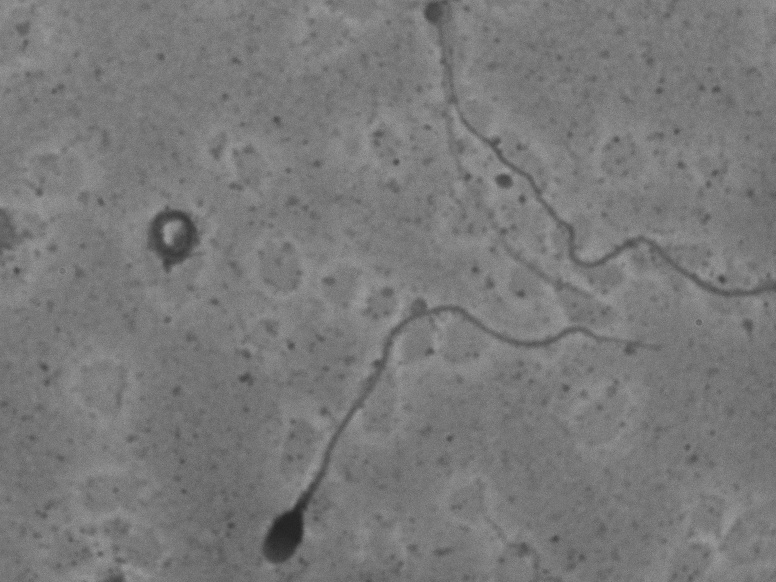Normal: (252, 294, 668, 573)
